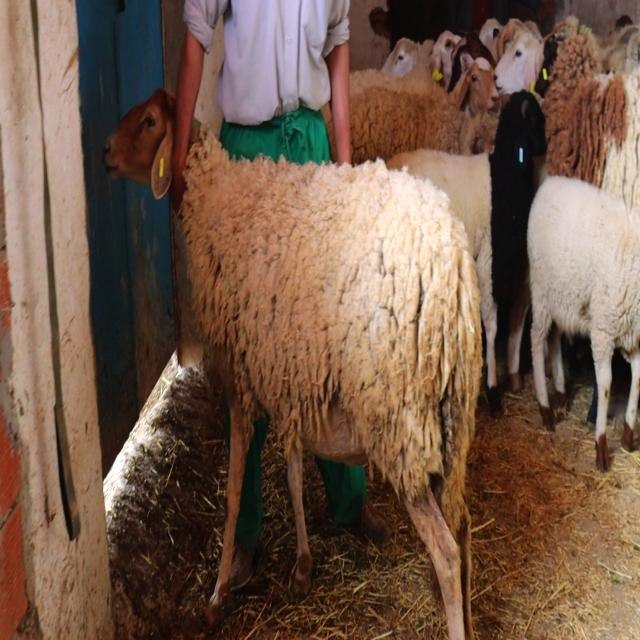Score_5: (178, 121, 483, 639)
